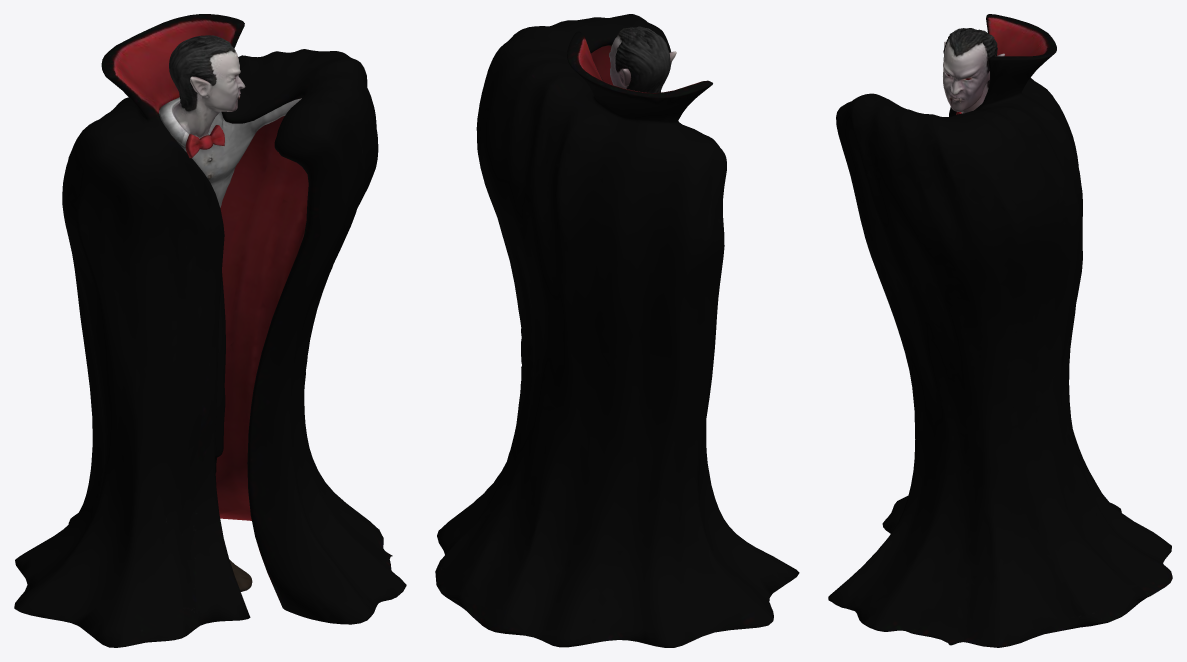
File: MZ4250 - Vampire.glb
The picture shows the model from 3 angles, left to right: view 1: azimuth 30°, elevation 25°; view 2: azimuth 150°, elevation 25°; view 3: azimuth 270°, elevation 25°; orthographic projection. The views are drawn at different scales.
Visible parts, largest first — view 1: FIST LEFT.001; view 2: FIST LEFT.001; view 3: FIST LEFT.001.
Part boxes in pixels (x1,y1,x2,y2): FIST LEFT.001: (14, 14, 406, 647); FIST LEFT.001: (435, 14, 799, 647); FIST LEFT.001: (828, 14, 1172, 647).
Bounding box in the file's own units: 0.6566 × 0.9848 × 0.5799.
Materials: 1 (1 with a texture image).
